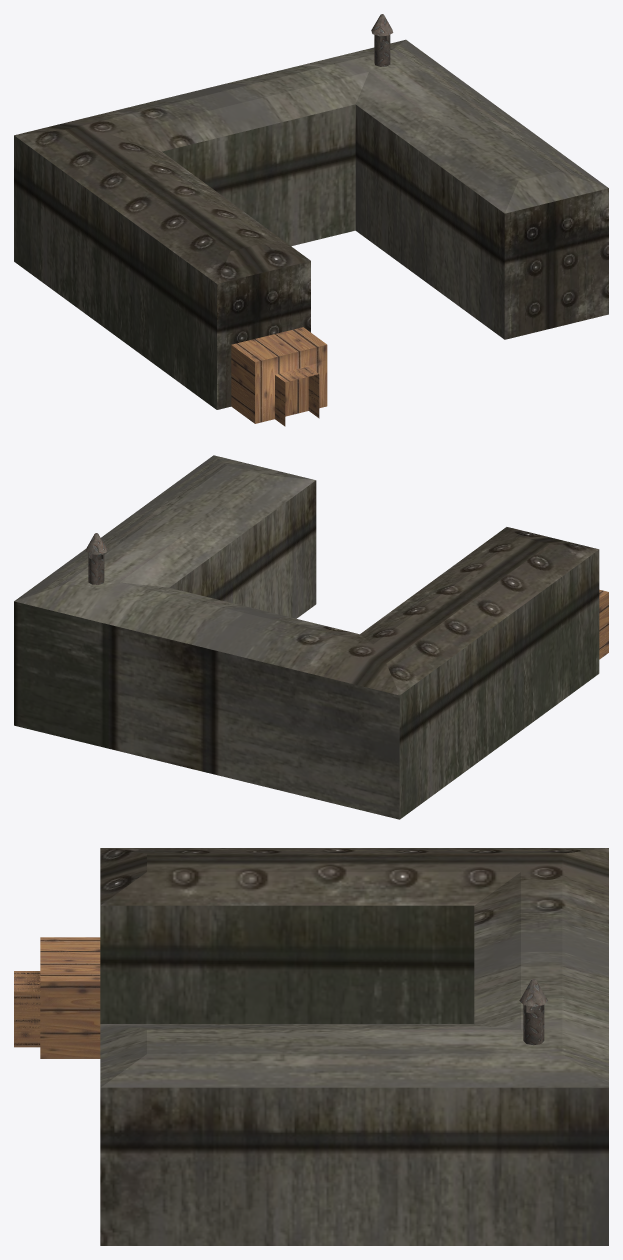
Rendered from Barracks.FBX.
3 views of the same model, one above another, from view 1: azimuth 30°, elevation 25°; view 2: azimuth 150°, elevation 25°; view 3: azimuth 270°, elevation 25° (orthographic). The views are drawn at different scales.
Parts seen in each view (by area): view 1: building, doorway; view 2: building, doorway, Cylinder001; view 3: building, doorway, Cylinder001.
Boxes of the visible parts, x1,y1,x2,y2 form: building: (14, 39, 608, 409); doorway: (231, 327, 327, 426); building: (14, 455, 599, 819); doorway: (599, 589, 608, 659); Cylinder001: (88, 553, 104, 584); building: (100, 848, 608, 1245); doorway: (14, 937, 100, 1058); Cylinder001: (523, 1005, 544, 1045).
Bounding box in the file's own units: 50.88 × 23.09 × 53.37.
